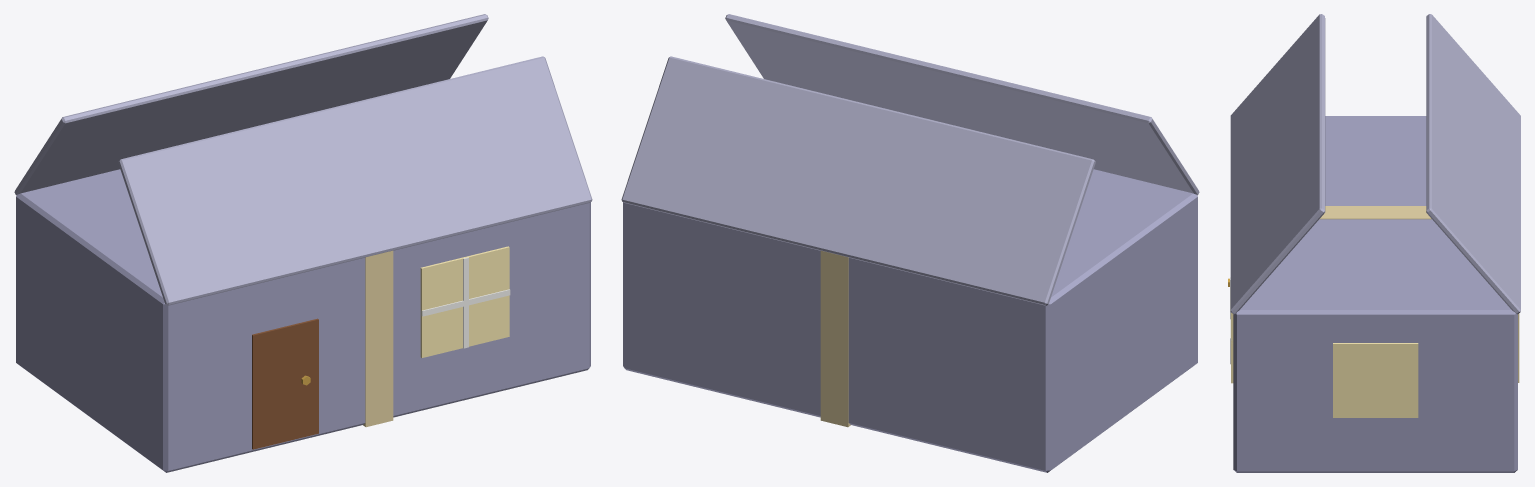
File: rental_nook.glb
3 renders of one model, left to right at view 1: azimuth 30°, elevation 25°; view 2: azimuth 150°, elevation 25°; view 3: azimuth 270°, elevation 25°, orthographic. The views are drawn at different scales.
Parts seen in each view (by area): view 1: rental_nook_Body; view 2: rental_nook_Body; view 3: rental_nook_Body.
Part boxes in pixels (box(x1,y1,x2,y2)): rental_nook_Body: box(14, 14, 592, 472); rental_nook_Body: box(621, 14, 1199, 472); rental_nook_Body: box(1228, 14, 1520, 472).
Size of the model in its own units: 0.8 by 0.5 by 0.5.
